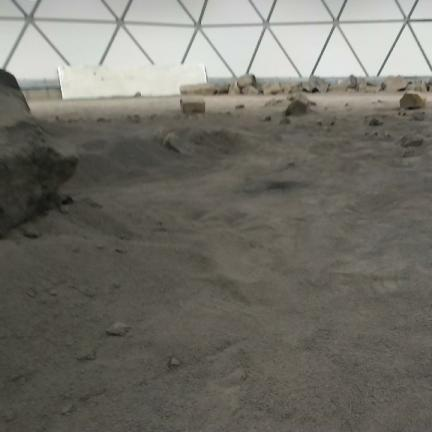Rock: (0, 72, 78, 238), (163, 132, 194, 155), (285, 95, 309, 115), (180, 83, 216, 95), (400, 92, 425, 109), (383, 76, 407, 91), (106, 322, 130, 336), (181, 99, 205, 113), (400, 133, 424, 147), (310, 76, 329, 92), (237, 75, 256, 89), (77, 350, 95, 361), (263, 85, 282, 94), (242, 85, 259, 94), (301, 82, 316, 92), (168, 357, 181, 368), (216, 83, 229, 94), (414, 81, 427, 92), (126, 114, 140, 123), (412, 112, 426, 121), (348, 75, 357, 88), (62, 196, 73, 205), (369, 118, 383, 125), (366, 80, 378, 85), (262, 116, 271, 121), (96, 118, 107, 122), (134, 92, 142, 97), (236, 104, 244, 109), (317, 120, 323, 126), (330, 121, 334, 125), (374, 132, 378, 136), (56, 116, 59, 121)
